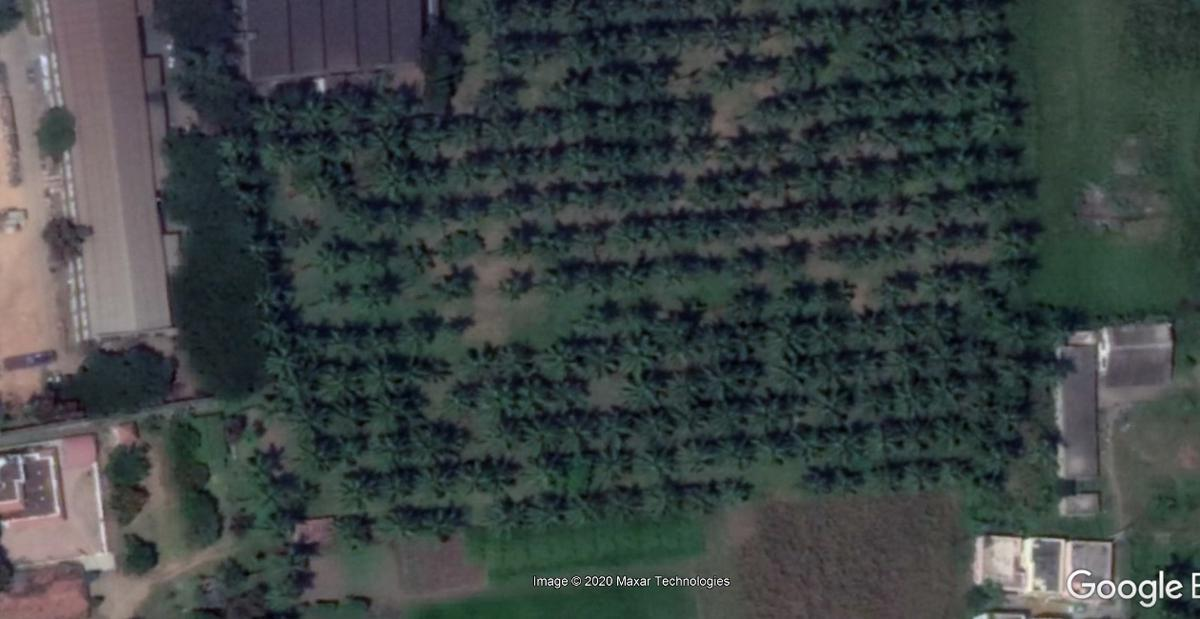coconut: (822, 230, 877, 273), (970, 110, 1020, 155), (426, 191, 488, 225), (882, 462, 936, 501), (881, 420, 932, 461), (389, 319, 440, 359), (791, 281, 843, 319), (617, 371, 664, 412), (660, 309, 700, 357), (992, 311, 1031, 359), (484, 496, 526, 540), (697, 358, 745, 396), (517, 373, 561, 414), (920, 302, 961, 346), (642, 485, 684, 527), (287, 95, 330, 136), (525, 493, 570, 532), (599, 411, 635, 459), (792, 317, 837, 355), (471, 461, 519, 496), (478, 377, 520, 417), (856, 80, 895, 123), (961, 3, 1005, 41), (983, 358, 1028, 395), (615, 339, 657, 378), (895, 77, 933, 120), (364, 358, 408, 395), (335, 519, 380, 555), (725, 10, 771, 45), (774, 85, 820, 120), (810, 377, 848, 419), (676, 133, 720, 169), (789, 167, 834, 202), (365, 91, 414, 123), (326, 80, 364, 121), (842, 311, 880, 352), (384, 155, 420, 198), (514, 114, 562, 146), (775, 48, 815, 86), (934, 413, 972, 453), (960, 40, 1006, 73), (521, 422, 562, 459), (639, 439, 680, 476), (483, 31, 524, 68), (938, 79, 974, 121), (705, 55, 743, 94), (648, 169, 686, 208), (319, 363, 360, 399), (828, 430, 869, 466), (475, 77, 521, 109), (732, 290, 774, 325), (321, 327, 364, 361), (612, 168, 645, 212), (576, 303, 614, 341), (888, 346, 925, 385), (575, 341, 615, 377), (852, 8, 892, 44), (580, 178, 612, 223), (916, 344, 959, 377), (923, 262, 961, 299), (604, 486, 643, 522), (892, 125, 937, 156), (752, 389, 786, 430), (913, 225, 959, 255), (467, 0, 510, 32), (995, 177, 1032, 214), (888, 308, 925, 345), (259, 344, 297, 380), (641, 404, 679, 440), (520, 31, 558, 67), (499, 267, 533, 307), (369, 434, 410, 467), (964, 77, 1009, 107), (793, 131, 836, 162), (882, 222, 918, 259), (338, 472, 376, 507), (980, 445, 1015, 483), (683, 434, 715, 475), (635, 97, 666, 139), (342, 195, 378, 231), (248, 97, 285, 132), (707, 399, 742, 436), (619, 300, 656, 335), (303, 434, 341, 468), (599, 112, 637, 146), (816, 85, 850, 123), (277, 213, 316, 246), (990, 220, 1029, 253), (379, 471, 419, 503), (425, 504, 466, 535), (366, 399, 411, 427), (697, 19, 732, 55), (840, 167, 875, 203), (401, 240, 439, 273), (540, 337, 573, 375), (766, 349, 805, 381), (431, 271, 474, 300), (991, 258, 1037, 285), (851, 48, 891, 79), (592, 64, 627, 99), (312, 239, 349, 272), (610, 261, 652, 290), (461, 349, 503, 378), (290, 136, 333, 164), (499, 223, 539, 253), (747, 127, 781, 162), (724, 475, 759, 509), (361, 323, 394, 359), (561, 418, 594, 454), (724, 436, 757, 472), (719, 212, 757, 243), (449, 156, 491, 184), (882, 386, 924, 414), (360, 275, 394, 309), (444, 118, 479, 151), (240, 447, 276, 479), (625, 19, 661, 51), (680, 96, 716, 128), (918, 187, 954, 219), (420, 466, 461, 494), (651, 218, 692, 246), (216, 123, 253, 154), (936, 118, 970, 151), (928, 4, 959, 40), (896, 41, 927, 77), (777, 9, 809, 43), (800, 468, 832, 502), (547, 223, 579, 257), (959, 177, 990, 212), (264, 504, 295, 539), (230, 186, 266, 216), (383, 202, 415, 235), (542, 178, 575, 210), (888, 5, 919, 39), (717, 251, 753, 280), (658, 258, 694, 287), (1046, 321, 1072, 361), (804, 204, 836, 236), (448, 380, 479, 413), (215, 159, 254, 185), (240, 230, 276, 258), (770, 244, 800, 277), (249, 317, 287, 343), (388, 506, 423, 534), (878, 272, 914, 299), (763, 434, 792, 467), (616, 217, 645, 250), (251, 285, 284, 313), (290, 327, 320, 357), (811, 8, 840, 39), (492, 417, 519, 450), (706, 176, 740, 202), (506, 182, 534, 213), (846, 198, 877, 226), (546, 262, 576, 290), (560, 78, 588, 107), (568, 109, 594, 140), (637, 64, 669, 89), (688, 484, 712, 516), (838, 465, 861, 498)
